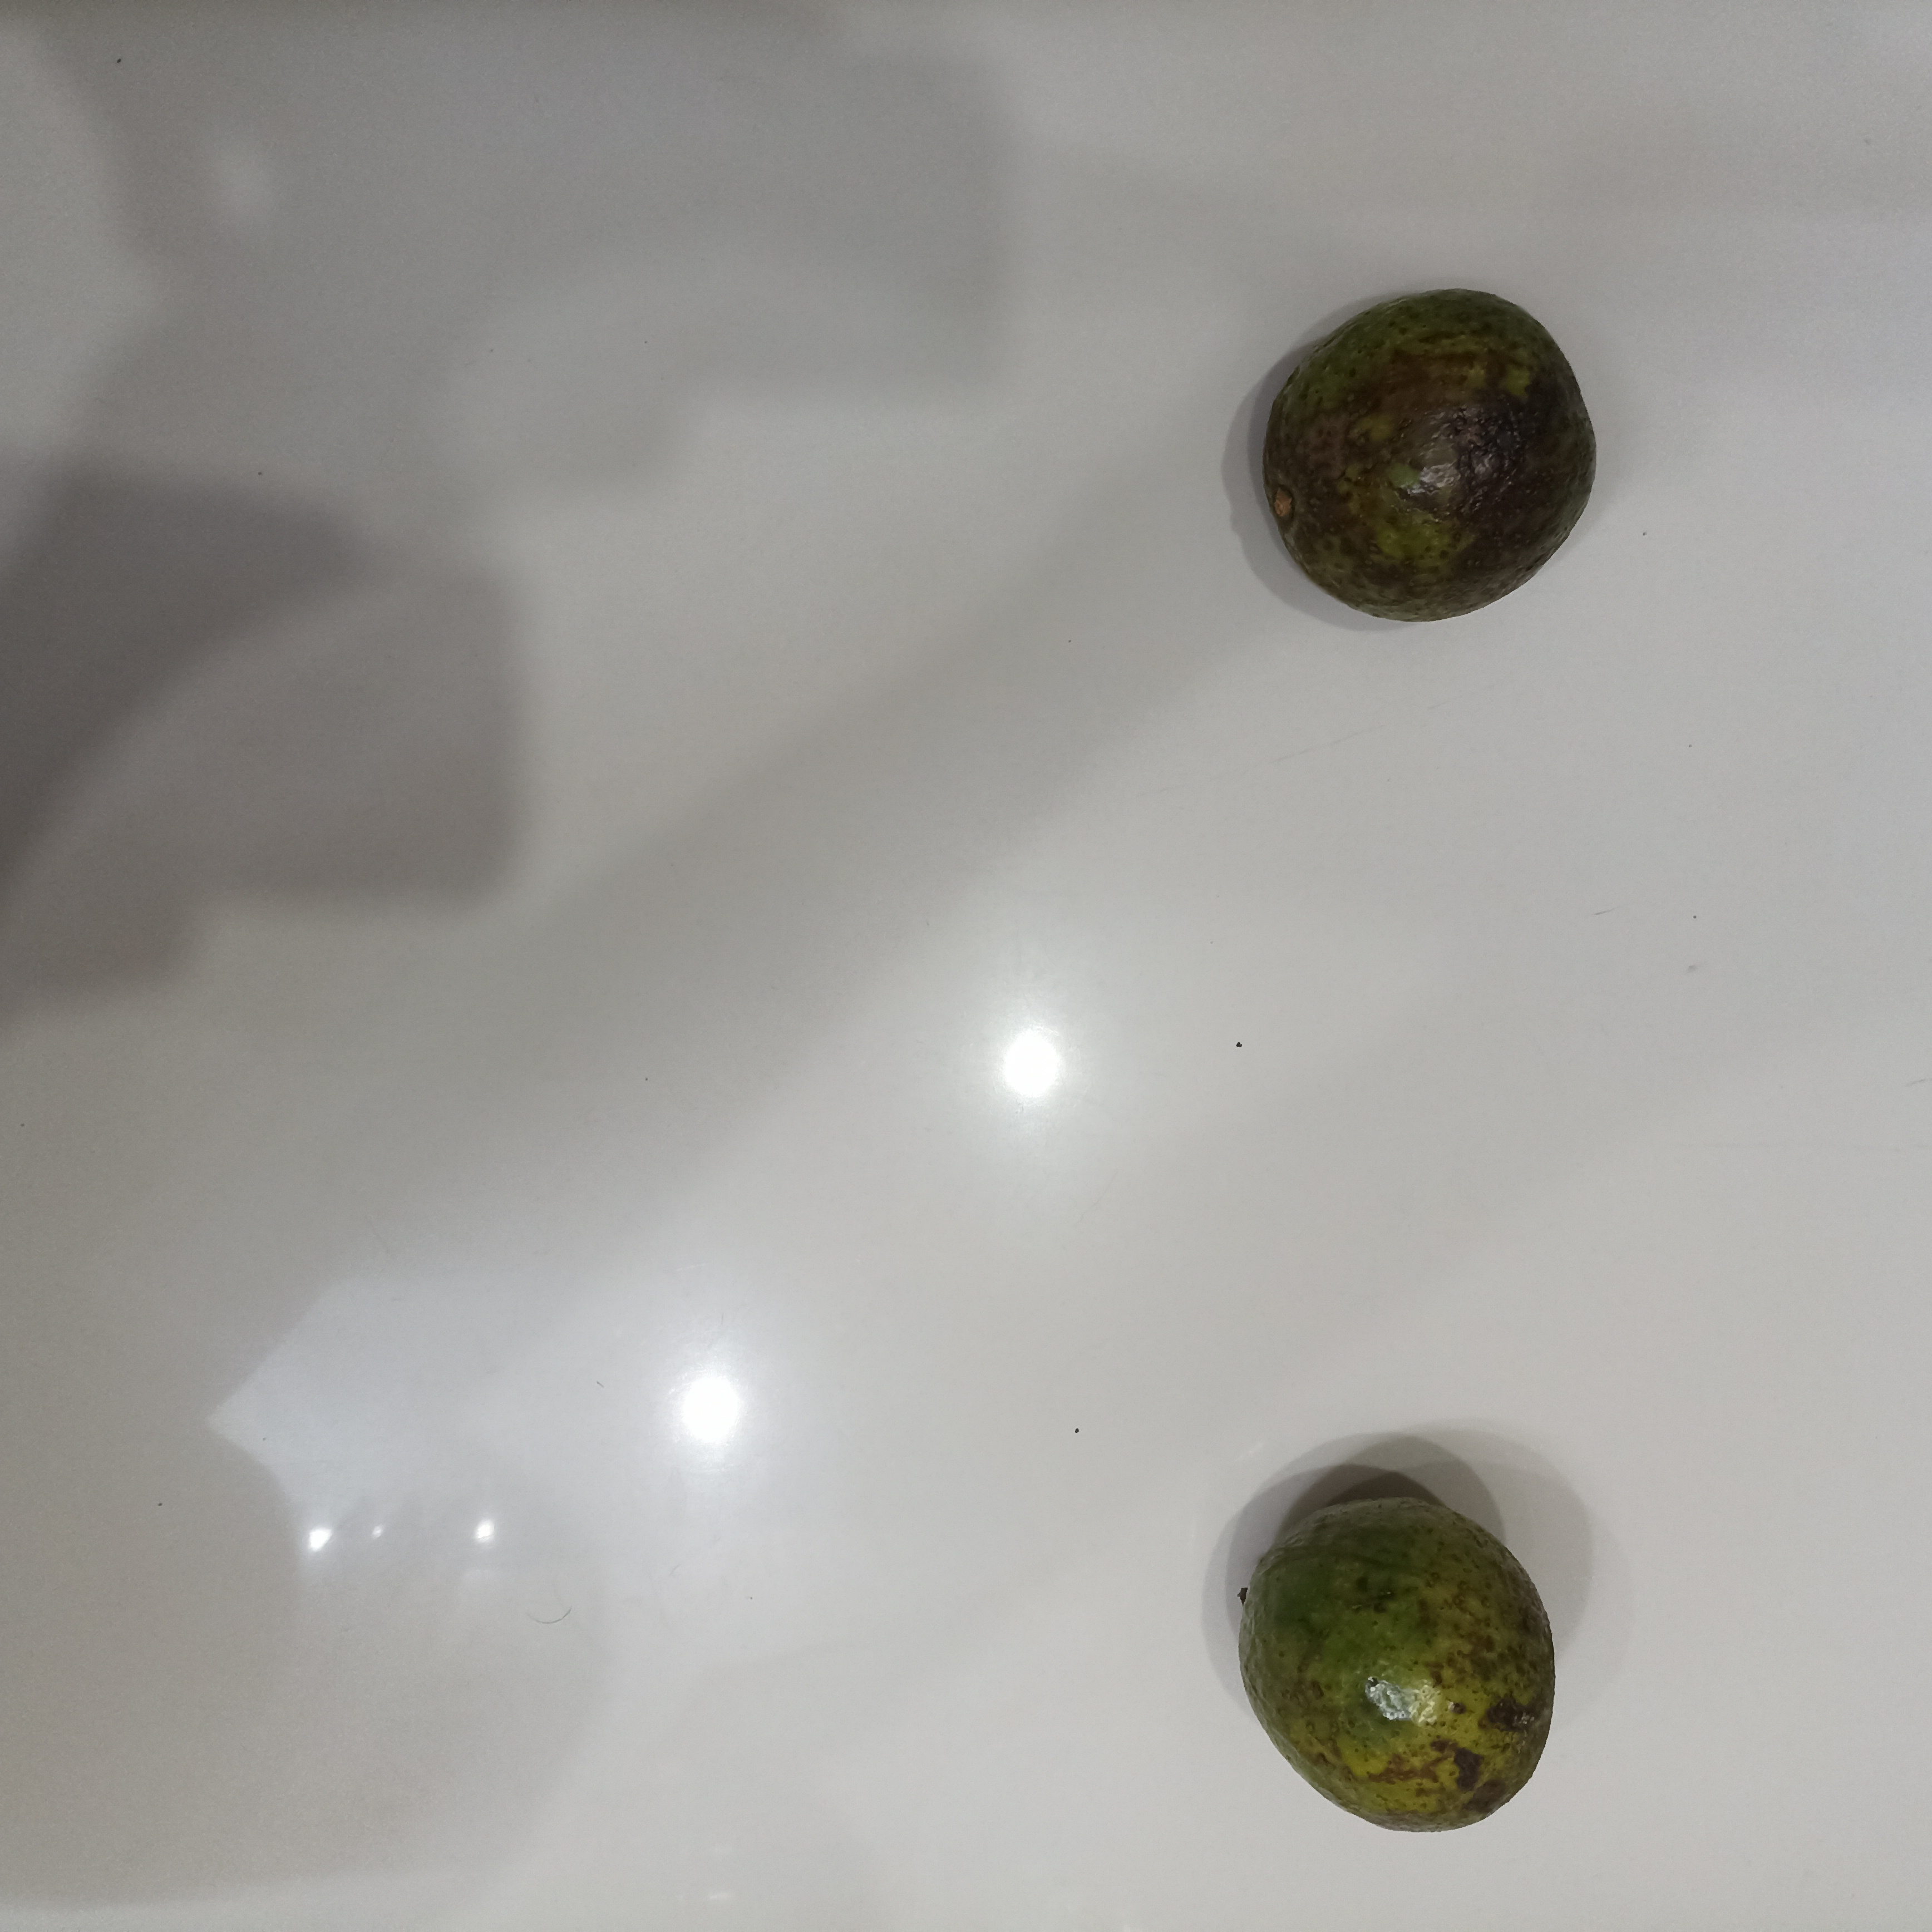Bo: (1256, 288, 1596, 619), (1232, 1496, 1553, 1833)
